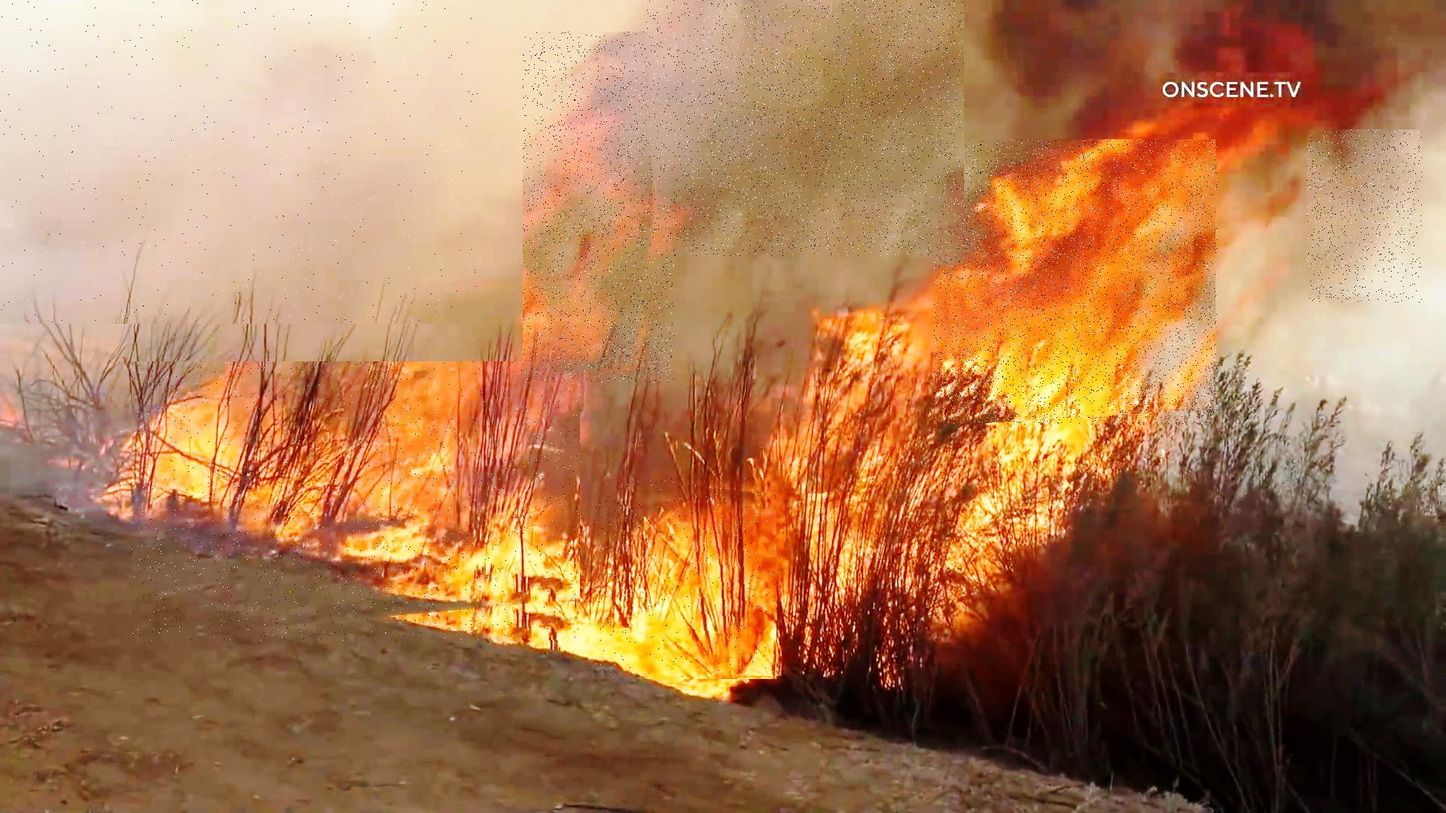fire: (132, 362, 582, 641), (934, 140, 1218, 425), (523, 32, 675, 383), (595, 477, 777, 679)
smoke: (0, 0, 478, 324), (645, 0, 964, 256), (1307, 130, 1422, 303)
